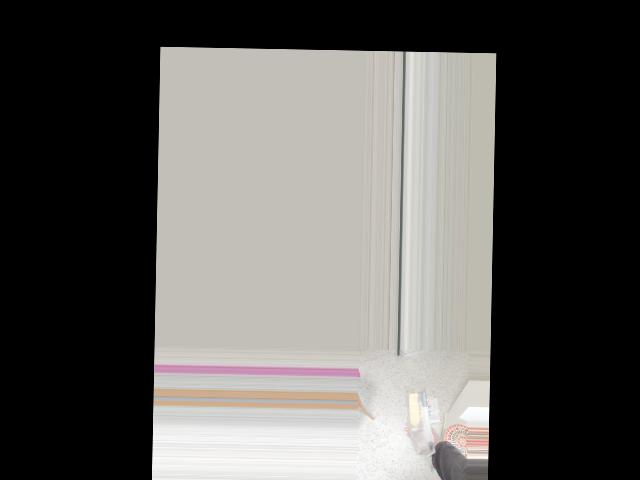cheese: (405, 390, 436, 454)
